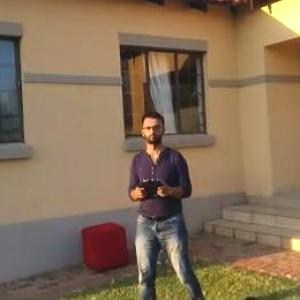follow: (120, 104, 207, 299)
